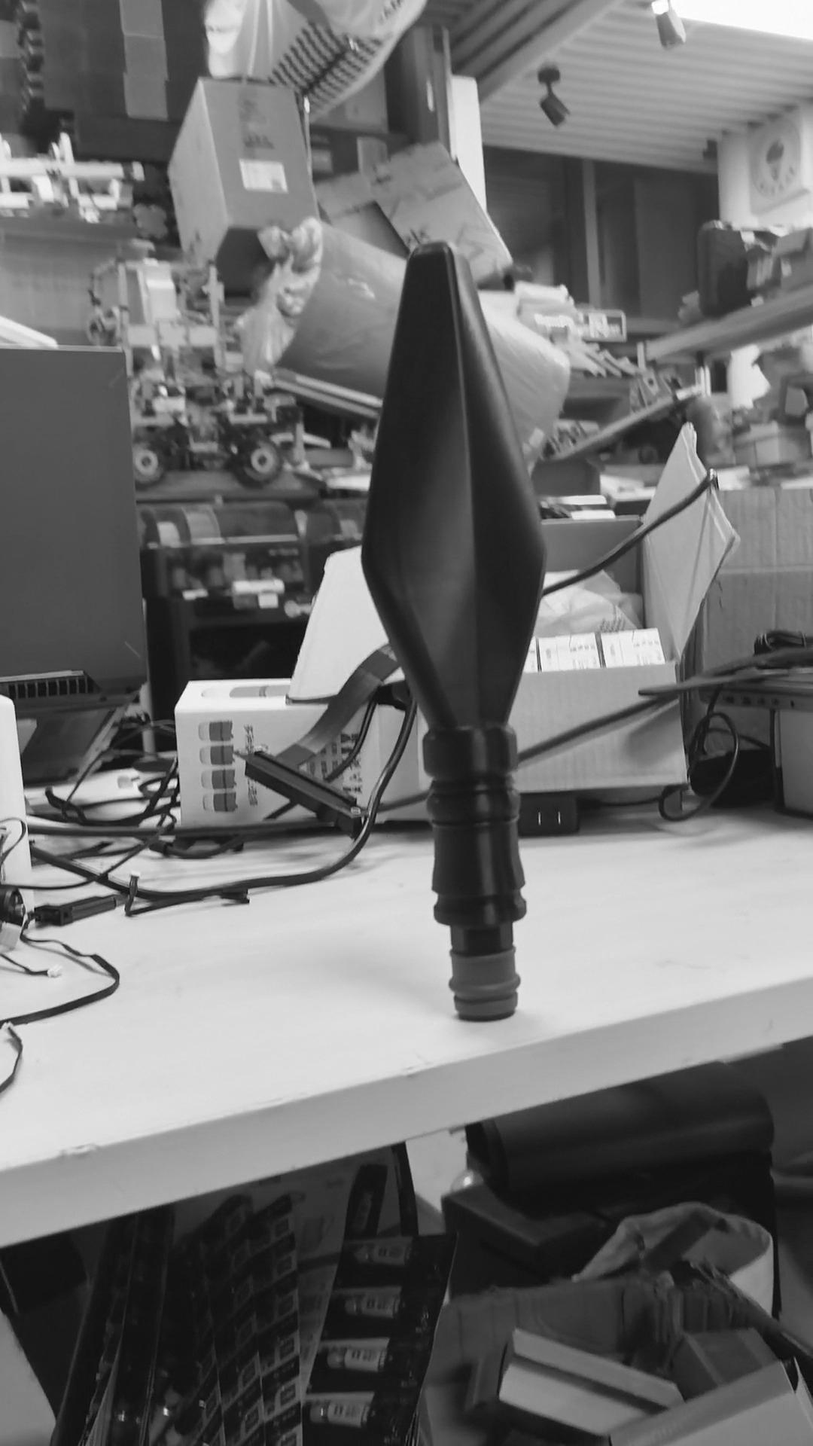base: (437, 942, 527, 1033)
